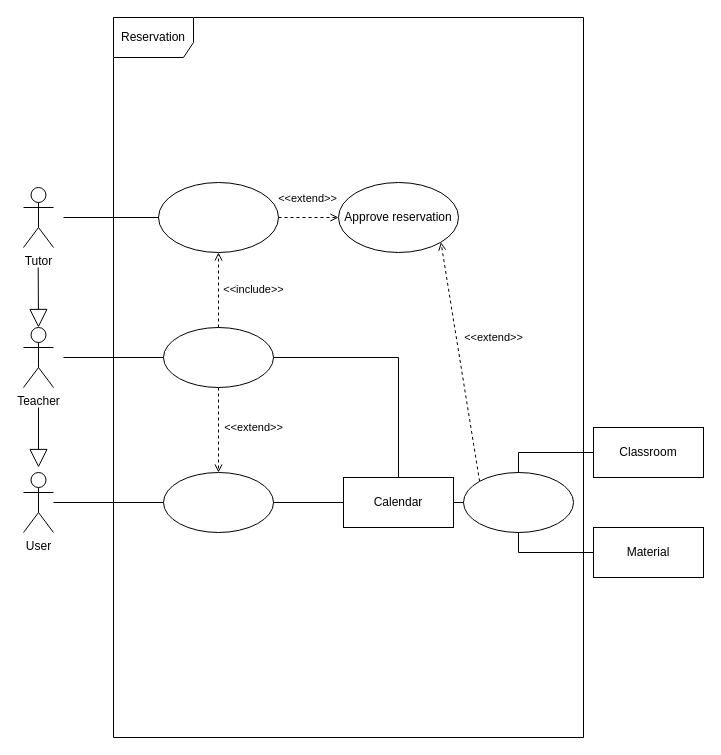
Some shapes in this 721 by 755 pixel diagram are drawn without their labels. Each missing label, with the box of its shape:
Check: (162, 472, 274, 532)
Check Disponibility: (462, 472, 574, 532)
Control reservations: (158, 182, 278, 252)
Make reservations: (162, 326, 274, 388)
